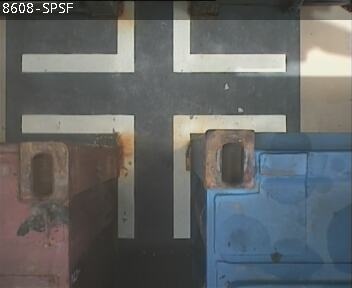groundmarker_1: (19, 112, 287, 238), (19, 1, 287, 71)
